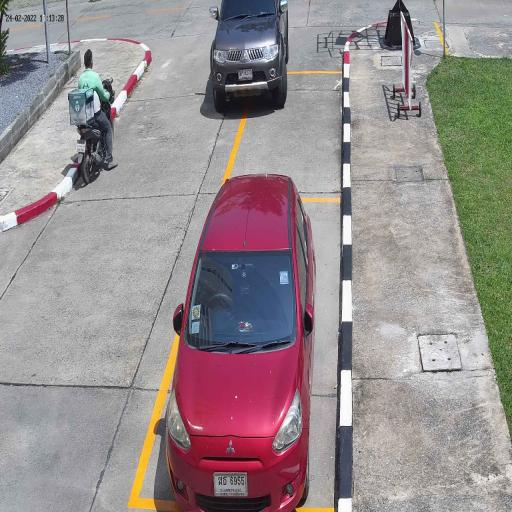car: (165, 173, 317, 512), (209, 0, 290, 110)
motorcycle: (75, 125, 117, 186)
